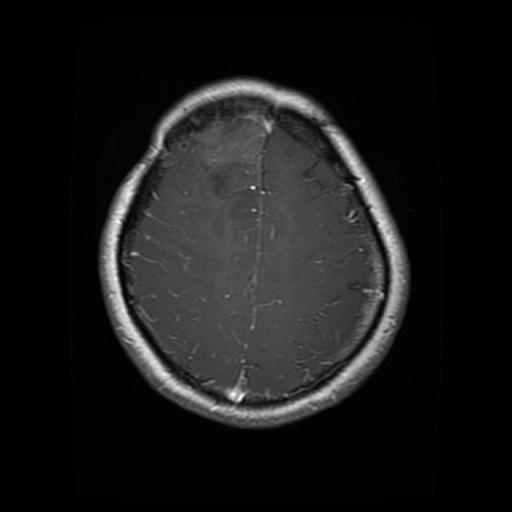Gliomia_tumour: (172, 113, 269, 228)
